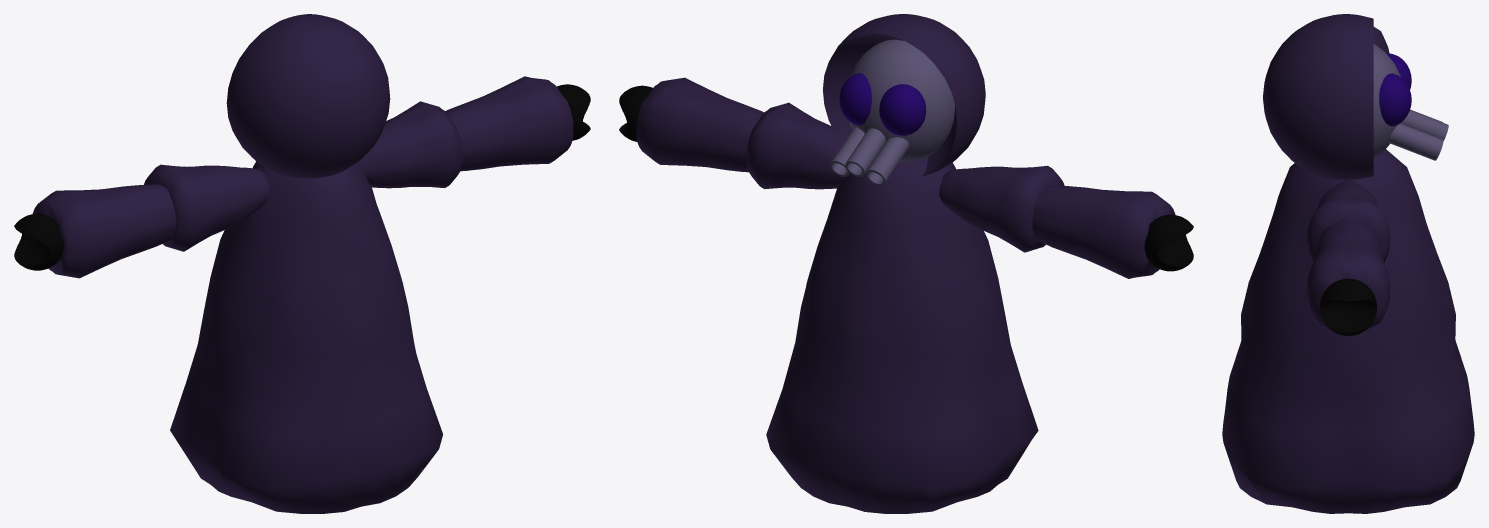
File: monstruo_enemigo.glb
3 views of the same model, side by side, from view 1: azimuth 30°, elevation 25°; view 2: azimuth 150°, elevation 25°; view 3: azimuth 270°, elevation 25° (orthographic).
Parts seen in each view (by area): view 1: Sphere, Sphere_010, Sphere_005, Sphere_002, Sphere_006, Sphere_001, Sphere_004, Sphere_003; view 2: Sphere, Sphere_010, Sphere_005, Sphere_002, Sphere_006, Sphere_001, Sphere_007, Sphere_004, Sphere_008, Sphere_009, Cylinder_001, Cylinder (+2 smaller); view 3: Sphere, Sphere_010, Sphere_002, Sphere_001, Sphere_003, Sphere_007, Sphere_009, Cylinder_002, Cylinder, Sphere_008.
Boxes of the visible parts, x1=… form: Sphere: x1=170, y1=161, x2=442, y2=513; Sphere_010: x1=226, y1=14, x2=390, y2=178; Sphere_005: x1=32, y1=184, x2=176, y2=278; Sphere_002: x1=445, y1=76, x2=573, y2=171; Sphere_006: x1=144, y1=164, x2=269, y2=251; Sphere_001: x1=357, y1=101, x2=462, y2=188; Sphere_004: x1=14, y1=213, x2=63, y2=270; Sphere_003: x1=556, y1=84, x2=590, y2=140; Sphere: x1=766, y1=157, x2=1038, y2=513; Sphere_010: x1=823, y1=14, x2=985, y2=175; Sphere_005: x1=1032, y1=185, x2=1175, y2=278; Sphere_002: x1=636, y1=77, x2=763, y2=172; Sphere_006: x1=939, y1=165, x2=1064, y2=252; Sphere_001: x1=747, y1=102, x2=844, y2=189; Sphere_007: x1=849, y1=39, x2=954, y2=162; Sphere_004: x1=1144, y1=214, x2=1193, y2=271; Sphere_008: x1=879, y1=84, x2=926, y2=135; Sphere_009: x1=839, y1=73, x2=871, y2=125; Cylinder_001: x1=865, y1=137, x2=909, y2=185; Cylinder: x1=845, y1=128, x2=885, y2=176; Sphere: x1=1222, y1=149, x2=1474, y2=513; Sphere_010: x1=1263, y1=14, x2=1373, y2=179; Sphere_002: x1=1306, y1=219, x2=1390, y2=329; Sphere_001: x1=1306, y1=179, x2=1390, y2=262; Sphere_003: x1=1319, y1=278, x2=1377, y2=335; Sphere_007: x1=1373, y1=44, x2=1401, y2=157; Sphere_009: x1=1379, y1=73, x2=1411, y2=126; Cylinder_002: x1=1388, y1=123, x2=1443, y2=160; Cylinder: x1=1401, y1=110, x2=1448, y2=141; Sphere_008: x1=1386, y1=53, x2=1411, y2=89.
Size of the model in its own units: 6.17 by 4.76 by 2.35.
